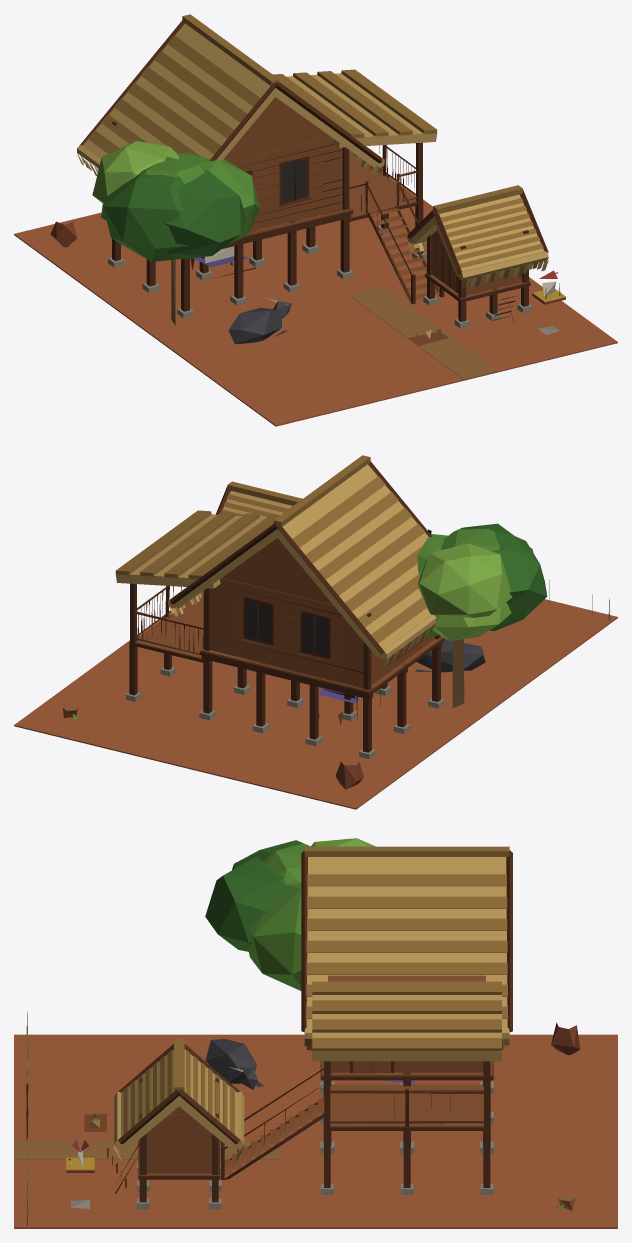
File: house12_1.glb
3 views of the same model, one above another, from view 1: azimuth 30°, elevation 25°; view 2: azimuth 150°, elevation 25°; view 3: azimuth 270°, elevation 25° (orthographic). The views are drawn at different scales.
Parts seen in each view (by area): view 1: body, windows; view 2: body, windows; view 3: body.
Part boxes in pixels (x1=…): body: x1=14, y1=14, x2=617, y2=426; windows: x1=248, y1=159, x2=307, y2=202; body: x1=14, y1=455, x2=617, y2=809; windows: x1=245, y1=599, x2=328, y2=656; body: x1=14, y1=838, x2=617, y2=1228.
Bounding box in the file's own units: 13.46 × 7.66 × 15.9.
